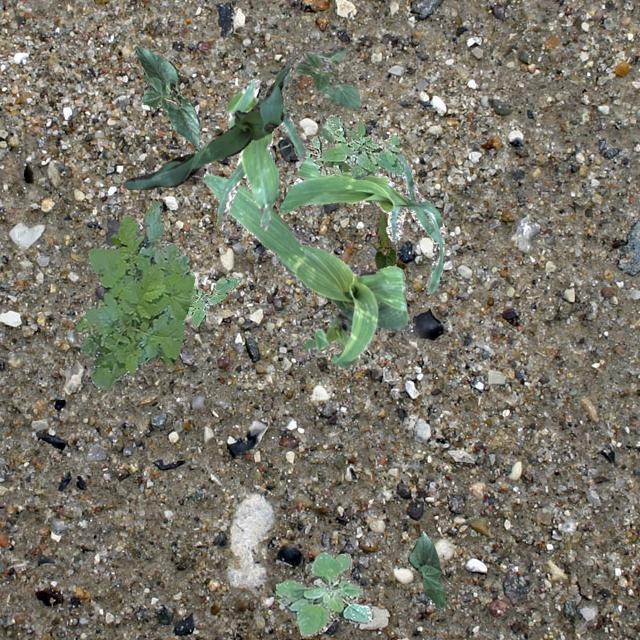crop: (202, 170, 410, 367), (277, 120, 443, 292), (122, 58, 292, 188), (214, 66, 304, 230), (134, 44, 200, 148), (294, 46, 358, 110), (406, 530, 446, 608), (372, 208, 396, 268)
weed: (74, 200, 194, 388), (274, 550, 372, 636), (302, 114, 403, 178), (186, 276, 240, 326), (110, 232, 120, 244)
